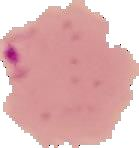parasitized: (1, 28, 54, 78)
